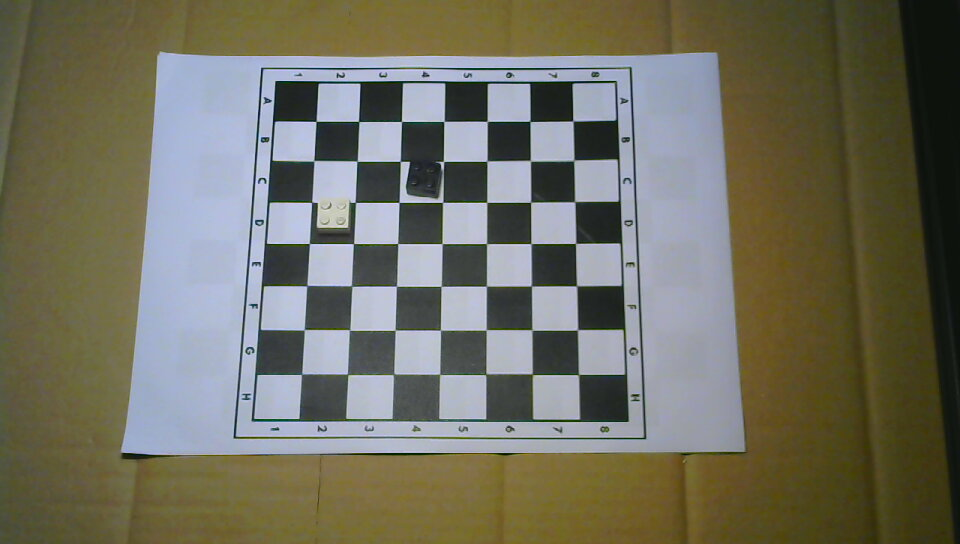bp: (404, 156, 443, 199)
wp: (315, 194, 353, 236)
